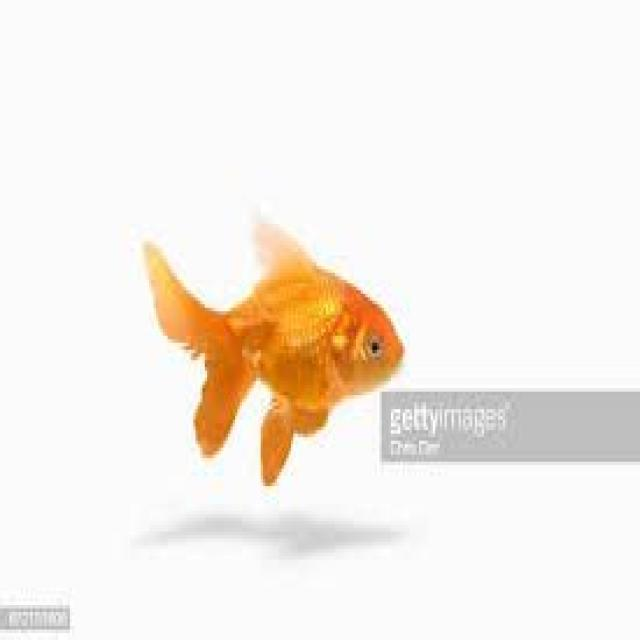Gold-Fish: (98, 97, 456, 508)
